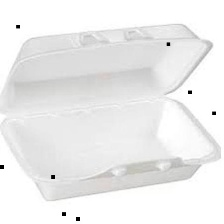foam_box: (0, 17, 224, 207)
